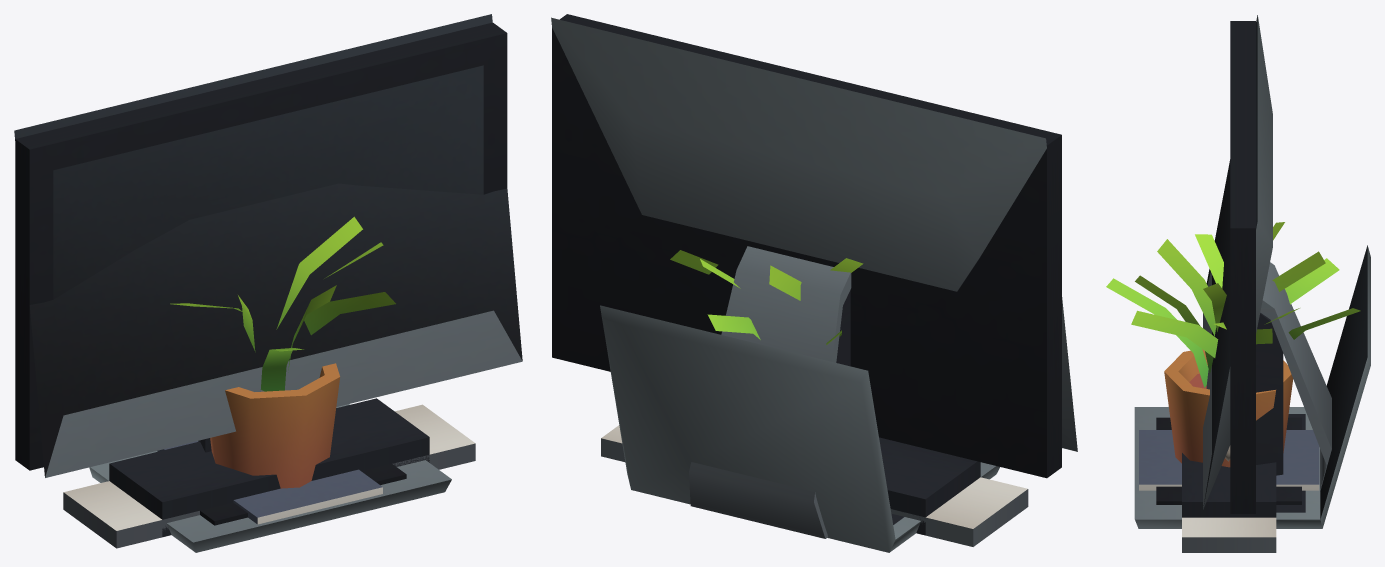
The picture shows the model from 3 angles, left to right: view 1: azimuth 30°, elevation 25°; view 2: azimuth 150°, elevation 25°; view 3: azimuth 270°, elevation 25°; orthographic projection. The views are drawn at different scales.
Visible parts, largest first — view 1: imac, Screen, Plant01, KbMech, KbMac, Box315, book; view 2: imac, Screen, Box315, KbMac, KbMech, Plant01; view 3: Screen, imac, Plant01, Box315, book, KbMech, KbMac.
Boxes of the visible parts, left/top/right/bottom form: imac: left=14, top=14, right=522, bottom=477; Screen: left=15, top=22, right=507, bottom=525; Plant01: left=170, top=216, right=395, bottom=488; KbMech: left=109, top=398, right=429, bottom=537; KbMac: left=63, top=404, right=475, bottom=548; Box315: left=89, top=404, right=451, bottom=552; book: left=157, top=441, right=382, bottom=524; imac: left=551, top=17, right=1077, bottom=538; Screen: left=552, top=14, right=1061, bottom=478; Box315: left=600, top=305, right=999, bottom=552; KbMac: left=601, top=425, right=1028, bottom=546; KbMech: left=879, top=437, right=980, bottom=535; Plant01: left=670, top=250, right=863, bottom=344; Screen: left=1156, top=21, right=1301, bottom=513; imac: left=1203, top=15, right=1331, bottom=509; Plant01: left=1106, top=222, right=1360, bottom=467; Box315: left=1134, top=245, right=1370, bottom=528; book: left=1139, top=430, right=1319, bottom=490; KbMech: left=1182, top=453, right=1276, bottom=517; KbMac: left=1182, top=517, right=1276, bottom=552.
Bounding box in the file's own units: 22.51 × 18.08 × 12.16.
